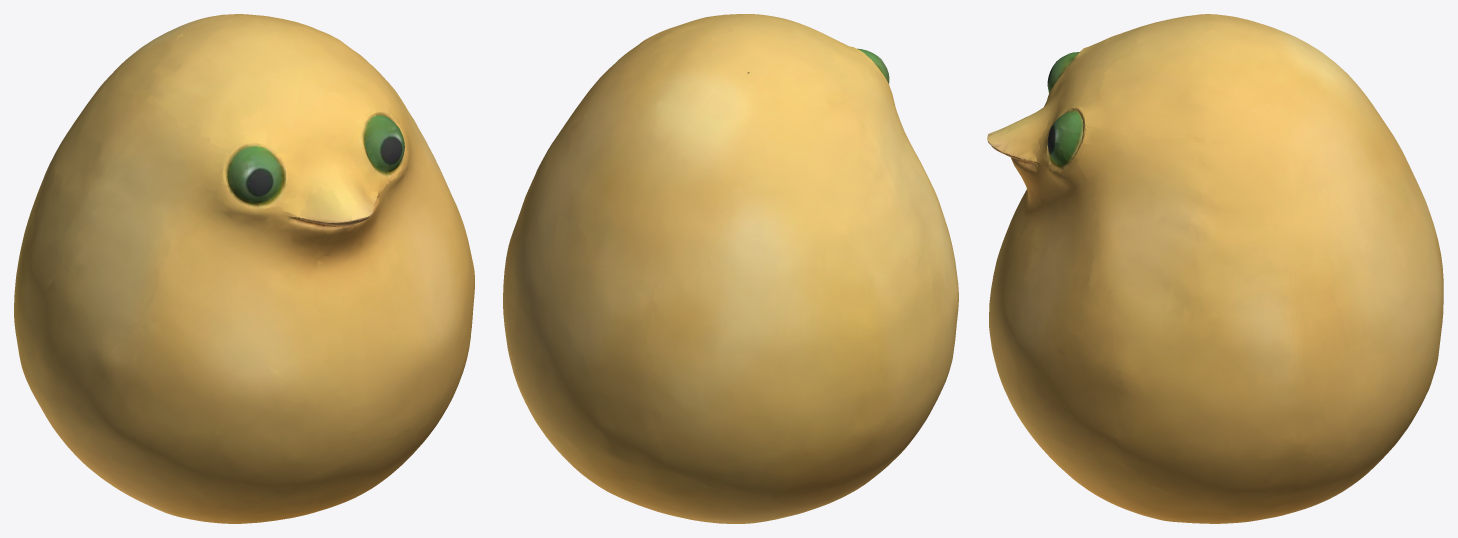
File: naiwa_naidan_runtime.glb
3 renders of one model, left to right at view 1: azimuth 30°, elevation 25°; view 2: azimuth 150°, elevation 25°; view 3: azimuth 270°, elevation 25°, orthographic.
Visible parts, largest first — view 1: geometry_0; view 2: geometry_0; view 3: geometry_0.
Boxes of the visible parts, left/top/right/bottom form: geometry_0: left=14, top=14, right=474, bottom=523; geometry_0: left=503, top=14, right=958, bottom=523; geometry_0: left=987, top=14, right=1443, bottom=523.
Bounding box in the file's own units: 0.1378 × 0.15 × 0.1377.
Materials: 1 (1 with a texture image).
